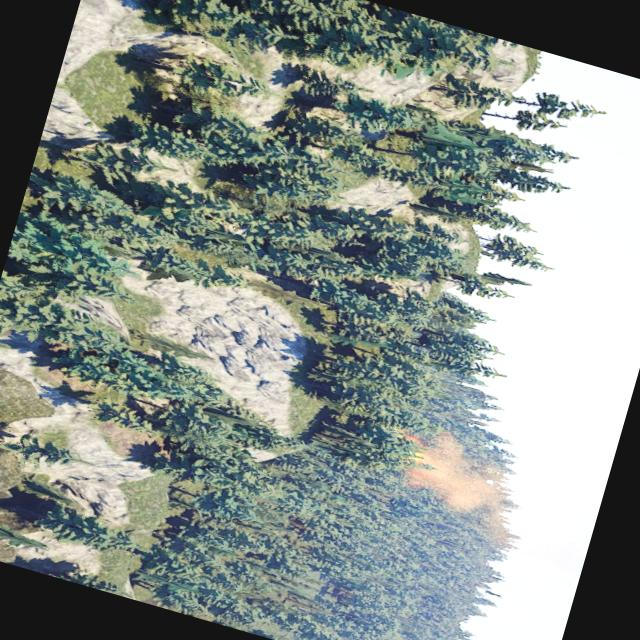smoke: (384, 423, 552, 554)
